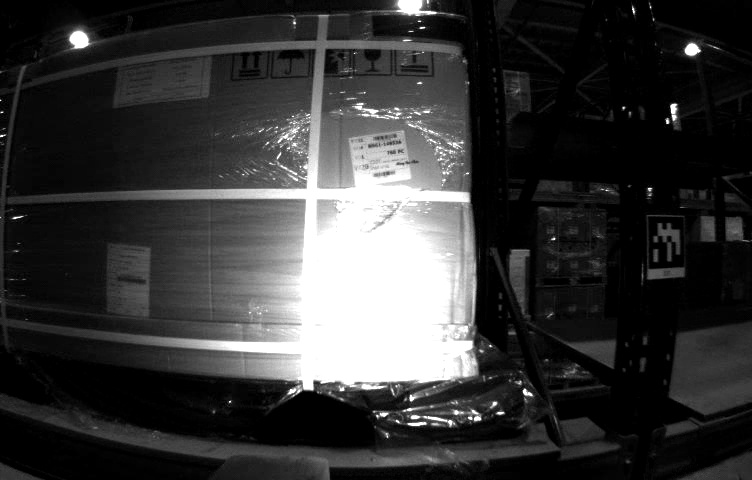True Barcode: (349, 129, 409, 189)
